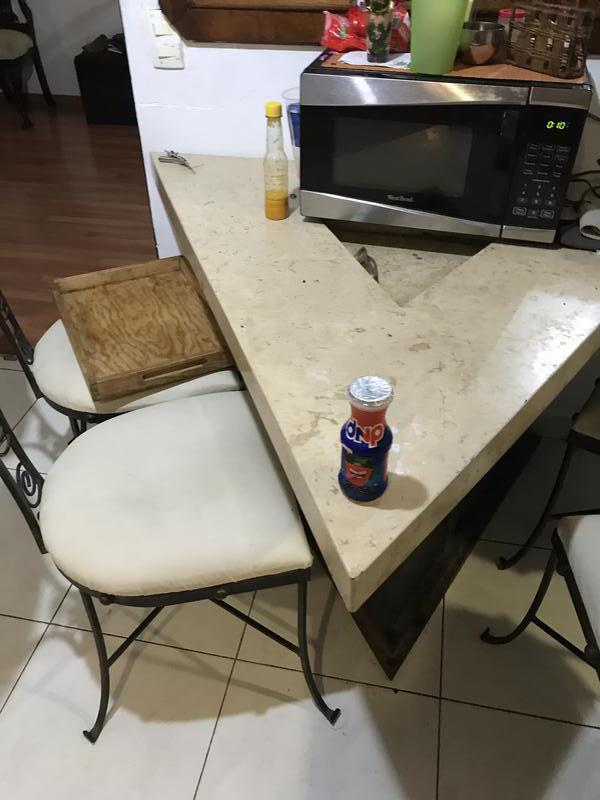danup: (340, 377, 391, 500)
